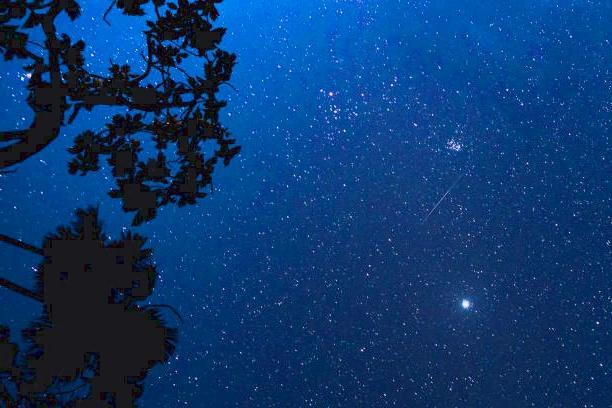meteorite: (400, 173, 480, 231)
